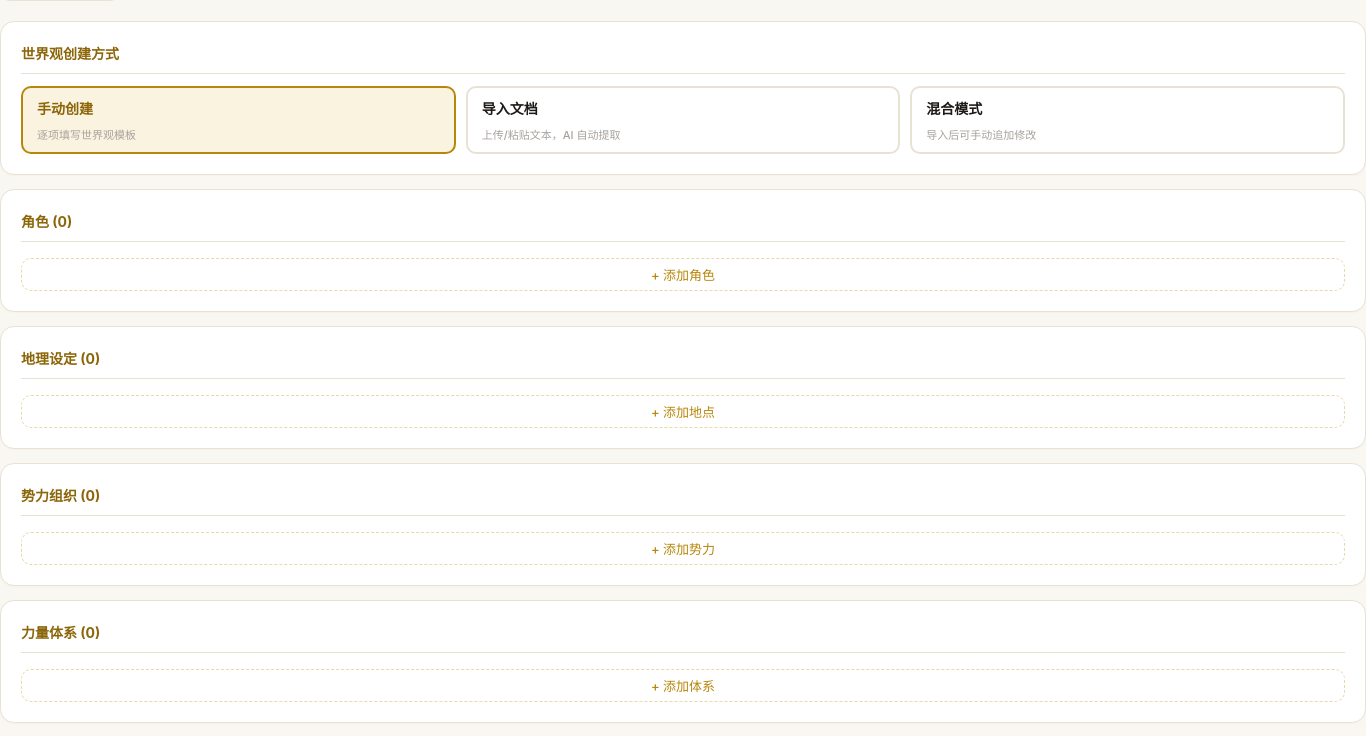
Test: WorldviewEditor maintenance drafts › stores structured edits before showing the maintenance failure
This screenshot has width=1366, height=736.
Expected: the text "世界观创建方式" is shown, [21, 42, 1345, 74]
Click the button "+ 添加角色" at (683, 275), box [21, 258, 1345, 291]
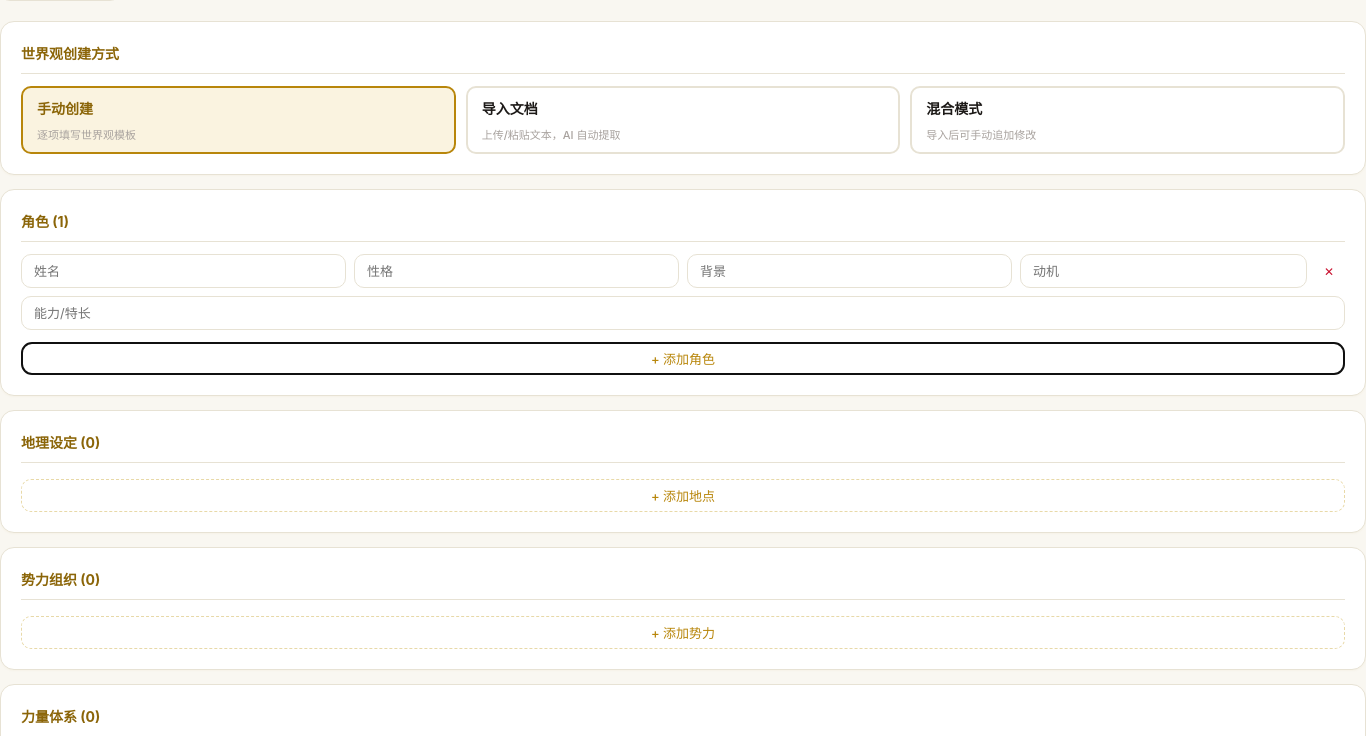
Type "林远" into the field with placeholder "姓名" at (184, 271), box [21, 254, 346, 288]
(page scrolled)
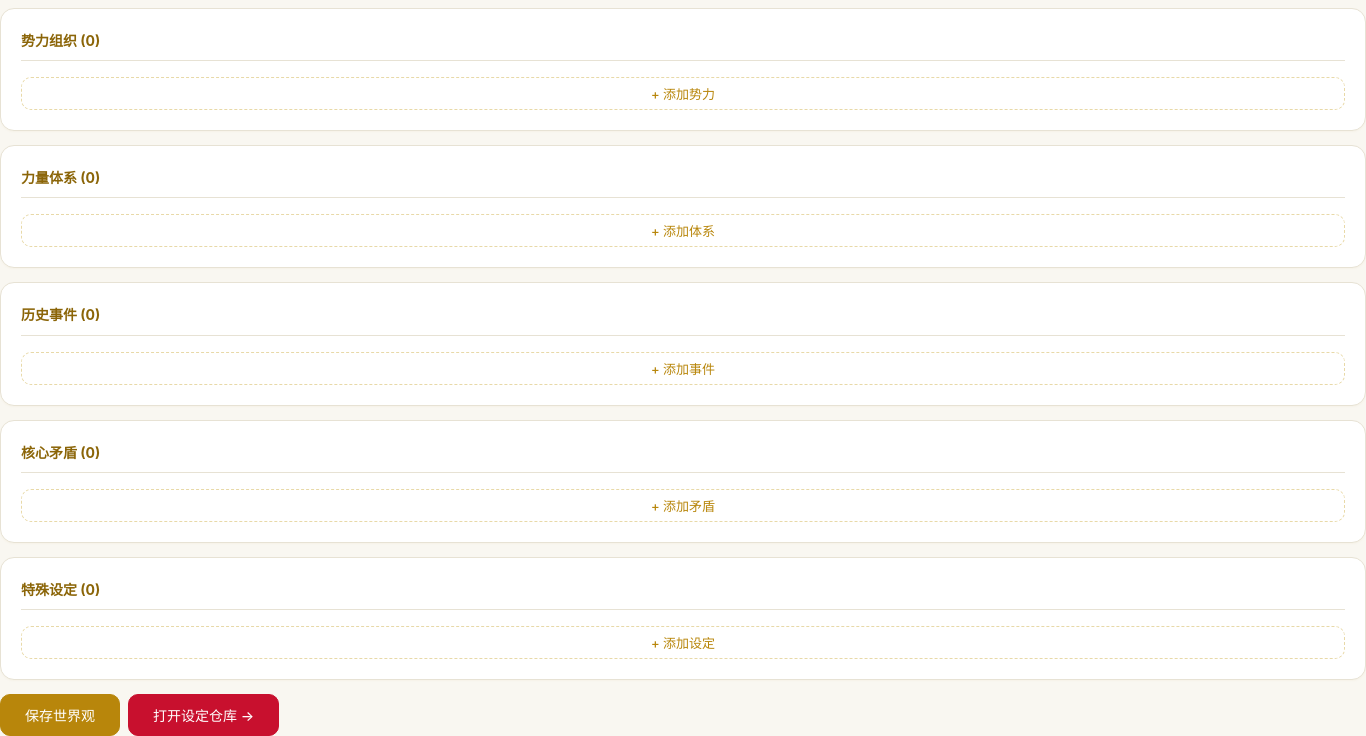
Click the button "保存世界观" at (60, 715), box [0, 694, 120, 735]
(page scrolled)
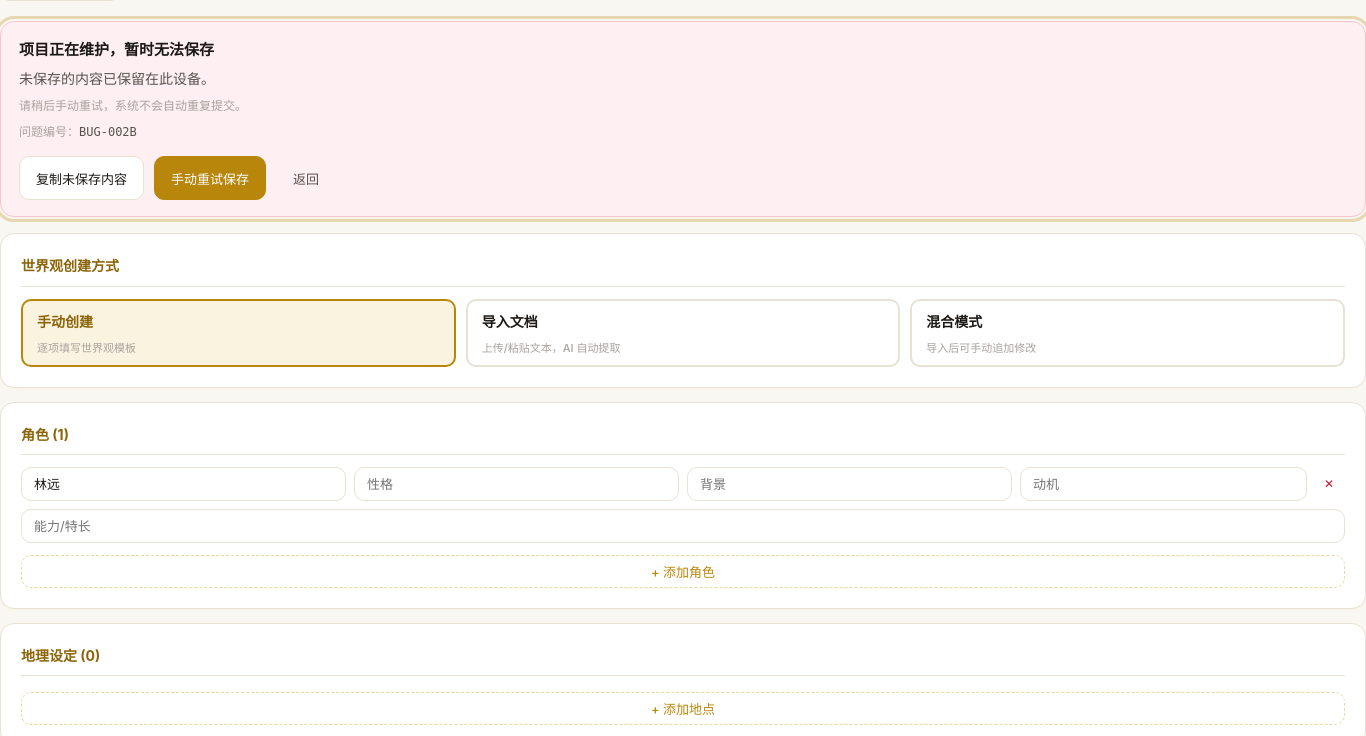
Result: the message shows "未保存的内容已保留在此设备" at [19, 70, 215, 87]
